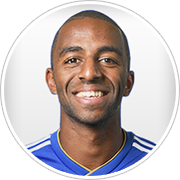face: (44, 33, 136, 120)
